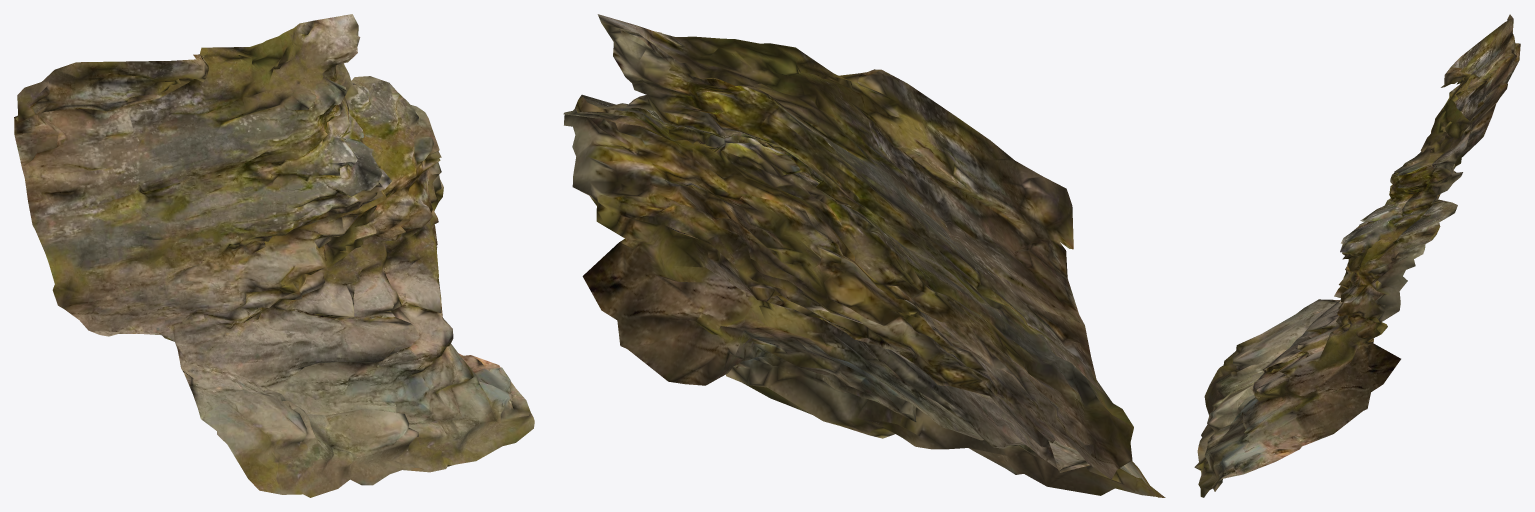
File: rock_face_02-low.glb
3 views of the same model, side by side, from view 1: azimuth 30°, elevation 25°; view 2: azimuth 150°, elevation 25°; view 3: azimuth 270°, elevation 25° (orthographic). The views are drawn at different scales.
Visible parts, largest first — view 1: rock_face_02; view 2: rock_face_02; view 3: rock_face_02.
Part boxes in pixels (x1,y1,x2,y2): rock_face_02: [14, 14, 534, 497]; rock_face_02: [563, 14, 1165, 497]; rock_face_02: [1194, 14, 1520, 497].
Bounding box in the file's own units: 2.71 × 2.47 × 2.13.
Materials: 1 (1 with a texture image).
